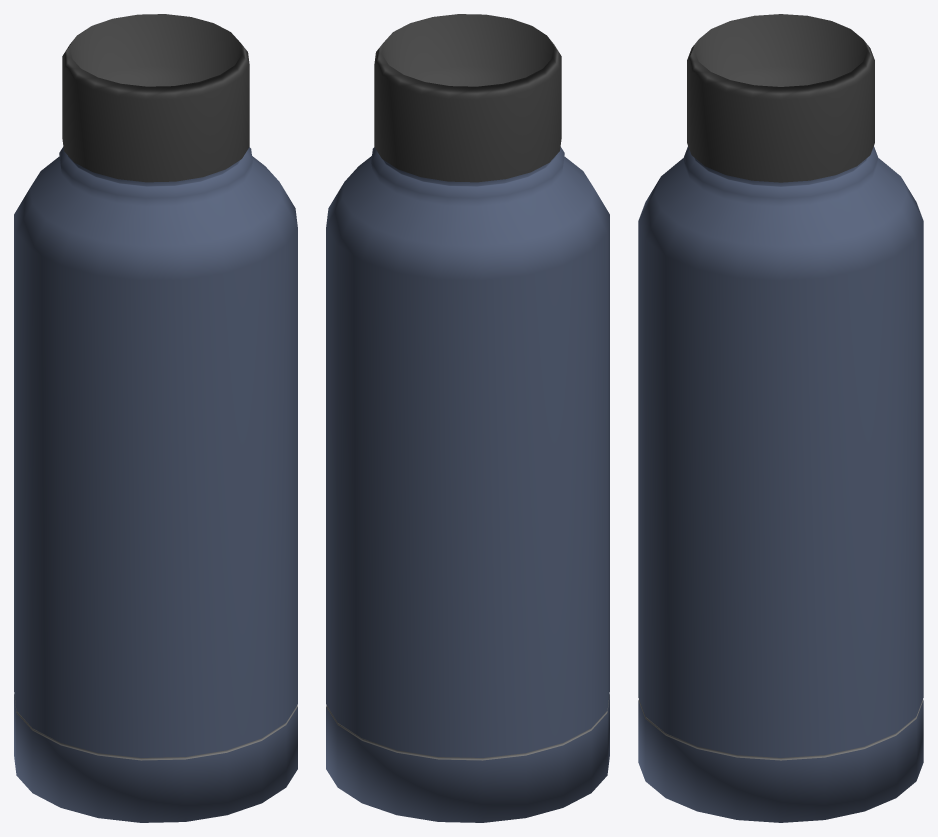
Rendered from WaterBottle.fbx.
The picture shows the model from 3 angles, left to right: view 1: azimuth 30°, elevation 25°; view 2: azimuth 150°, elevation 25°; view 3: azimuth 270°, elevation 25°; orthographic projection.
Parts seen in each view (by area): view 1: Water_Bottle; view 2: Water_Bottle; view 3: Water_Bottle.
Boxes of the visible parts, x1,y1,x2,y2 form: Water_Bottle: [14, 14, 297, 822]; Water_Bottle: [326, 14, 609, 822]; Water_Bottle: [638, 14, 923, 822].
Bounding box in the file's own units: 0.2535 × 0.699 × 0.2535.
